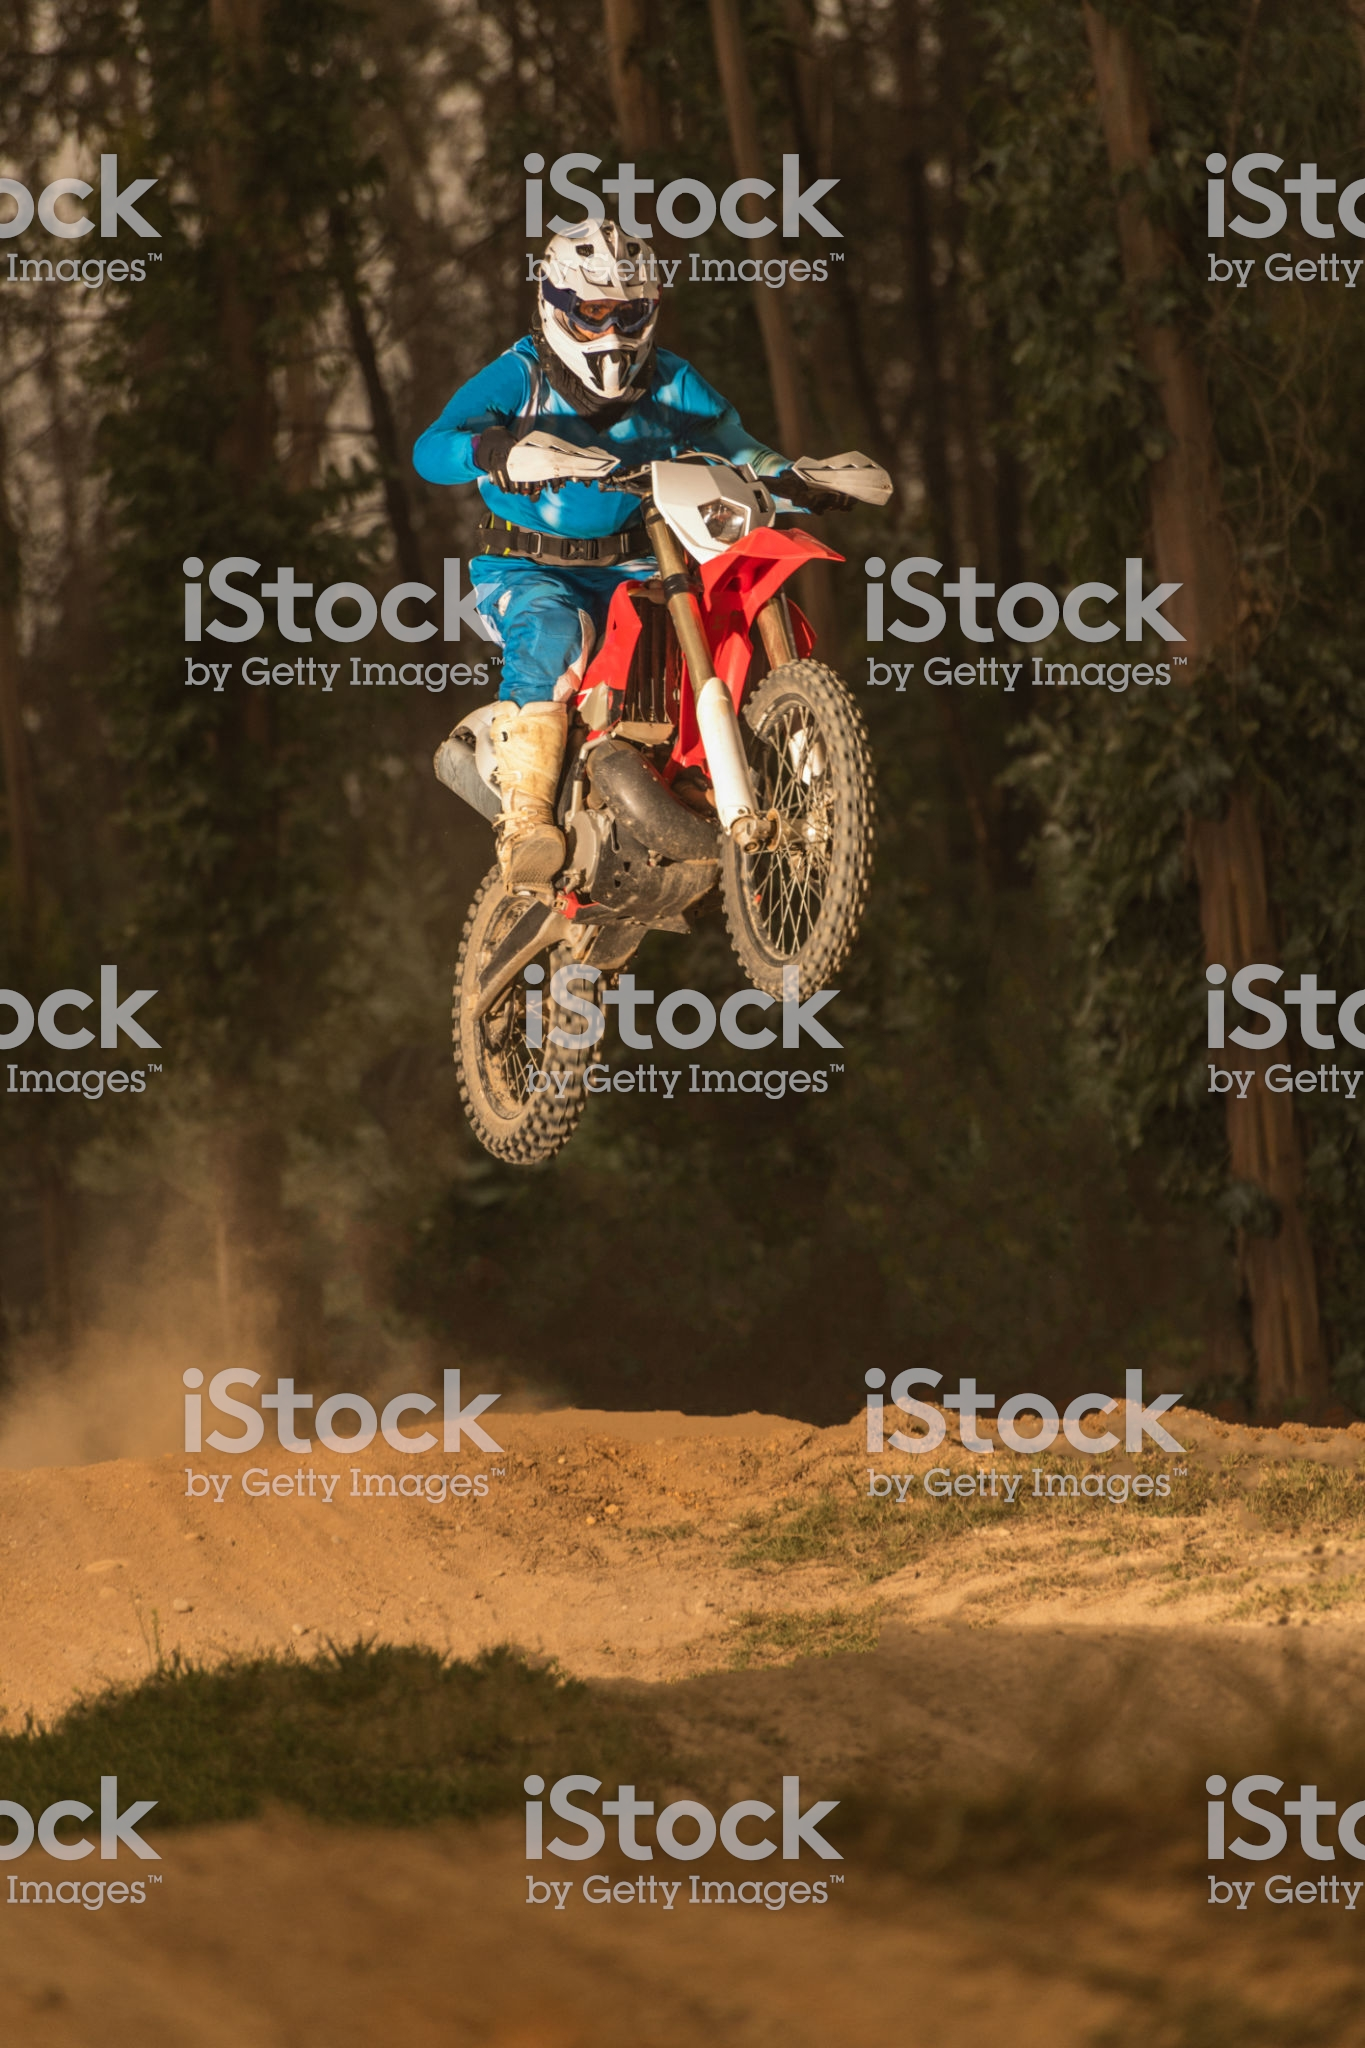helmet: (538, 196, 660, 381)
